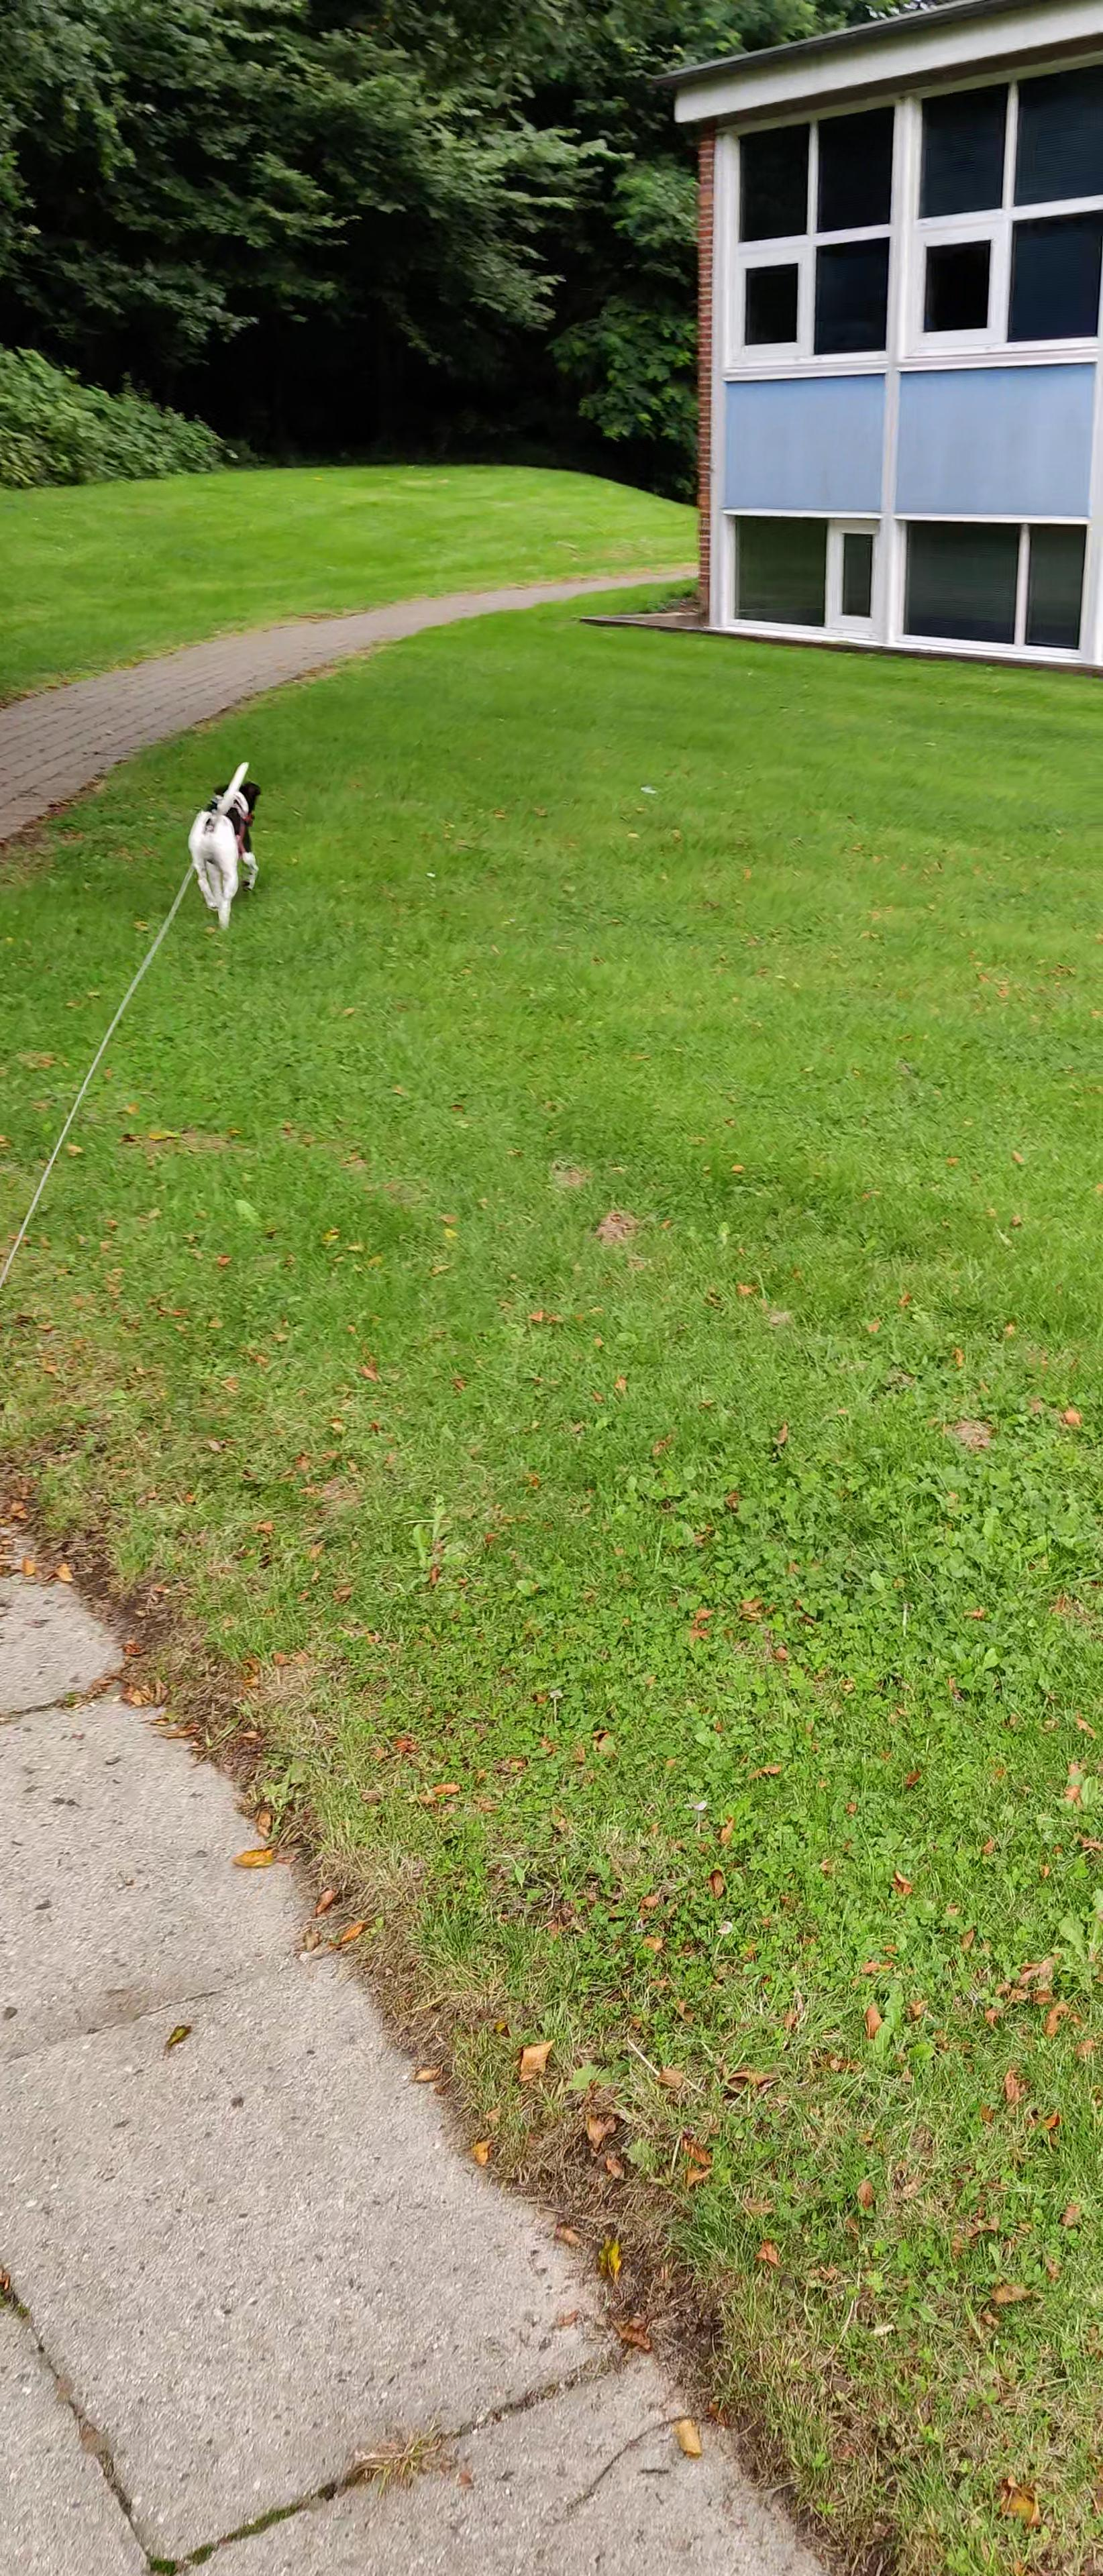Dog: (178, 759, 273, 933)
